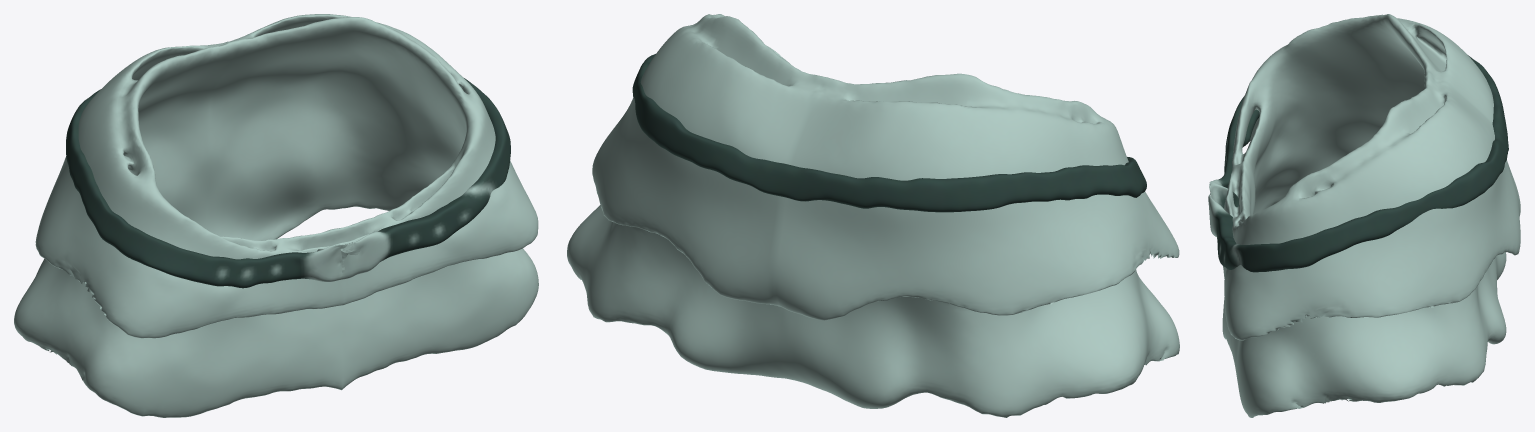
Rendered from grennPreppy-bottom.fbx.
The picture shows the model from 3 angles, left to right: view 1: azimuth 30°, elevation 25°; view 2: azimuth 150°, elevation 25°; view 3: azimuth 270°, elevation 25°; orthographic projection. The views are drawn at different scales.
Parts seen in each view (by area): view 1: grennPreppy-bottom; view 2: grennPreppy-bottom; view 3: grennPreppy-bottom.
Boxes of the visible parts, x1,y1,x2,y2 form: grennPreppy-bottom: (14, 14, 538, 417); grennPreppy-bottom: (567, 14, 1179, 417); grennPreppy-bottom: (1208, 14, 1520, 417).
Bounding box in the file's own units: 2.15 × 1.23 × 1.26.
